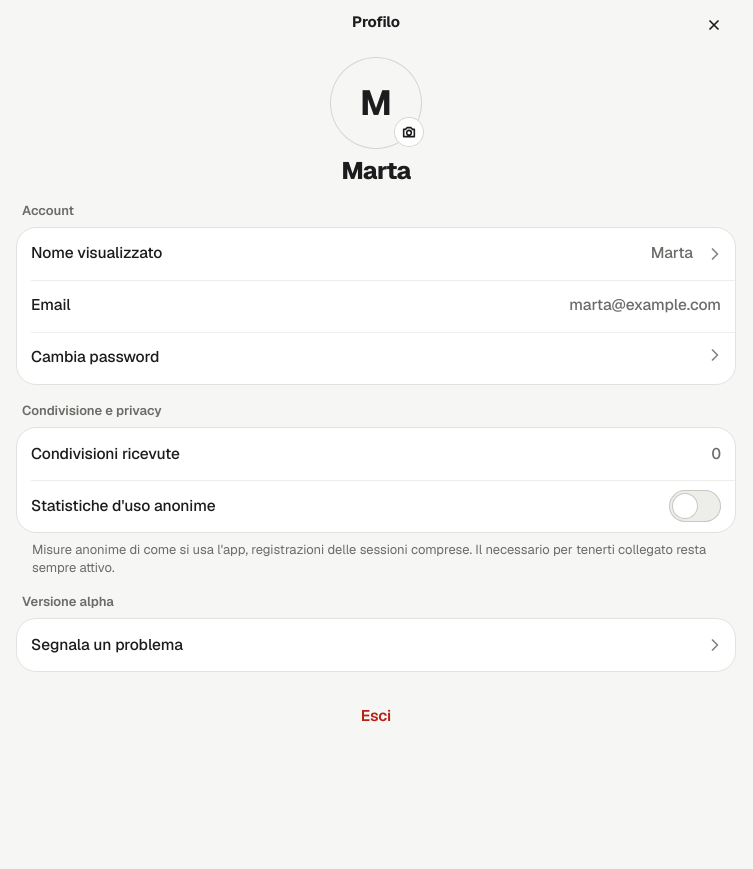
it: Profilo — nome › «Annulla» richiude senza salvare e torna alla riga
Click the button "Nome visualizzato Marta": x=97, y=253 [17,228,735,280]
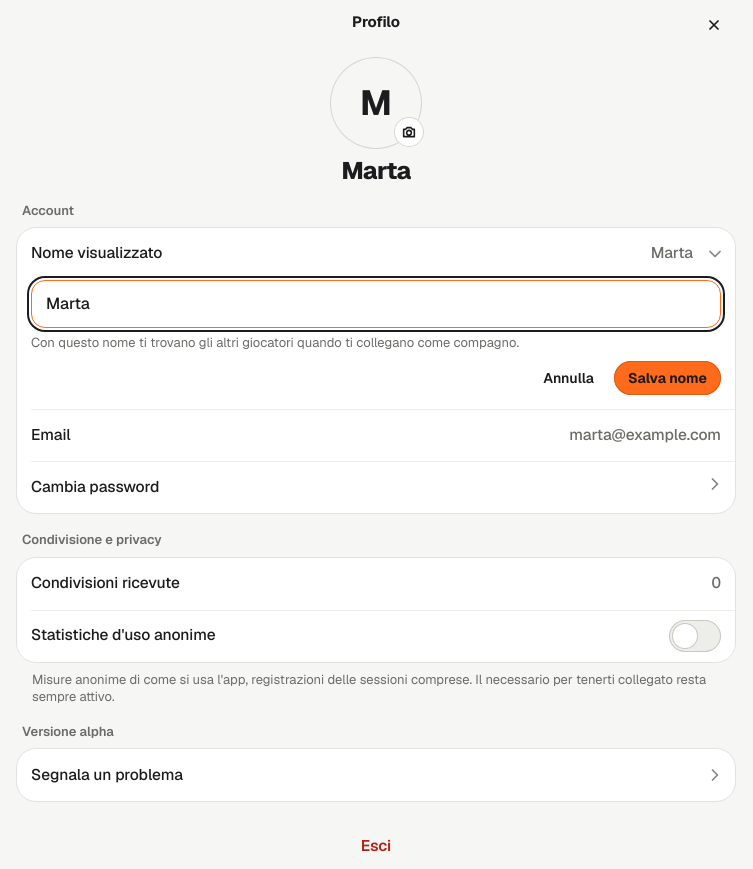
In the field named "Nome visualizzato": x=376, y=304 [31,280,721,328], type "tina"
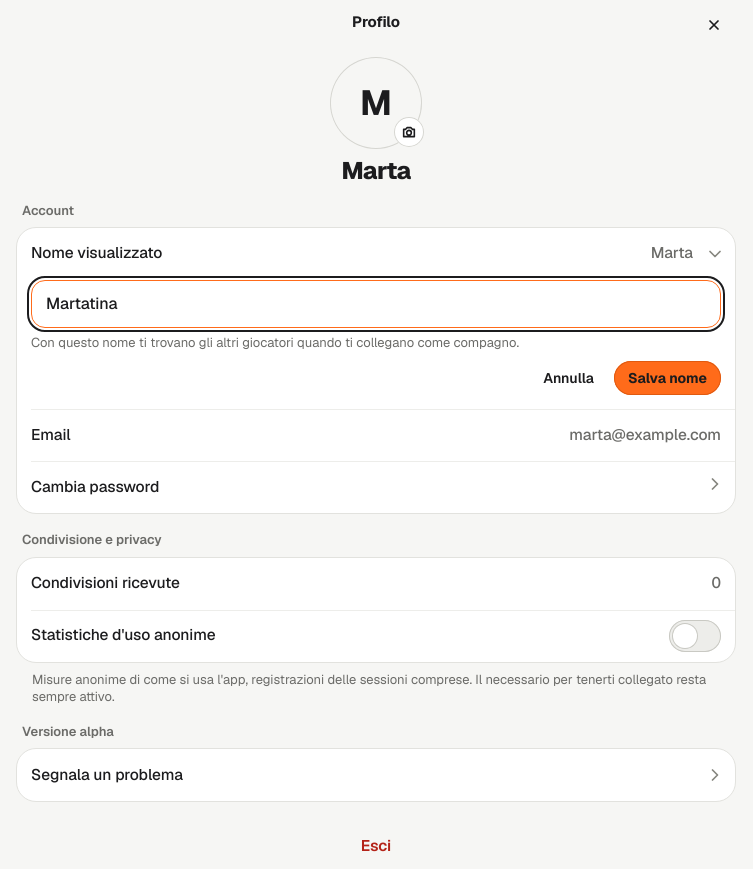
Click the button "Annulla": x=569, y=378 [531,361,606,395]
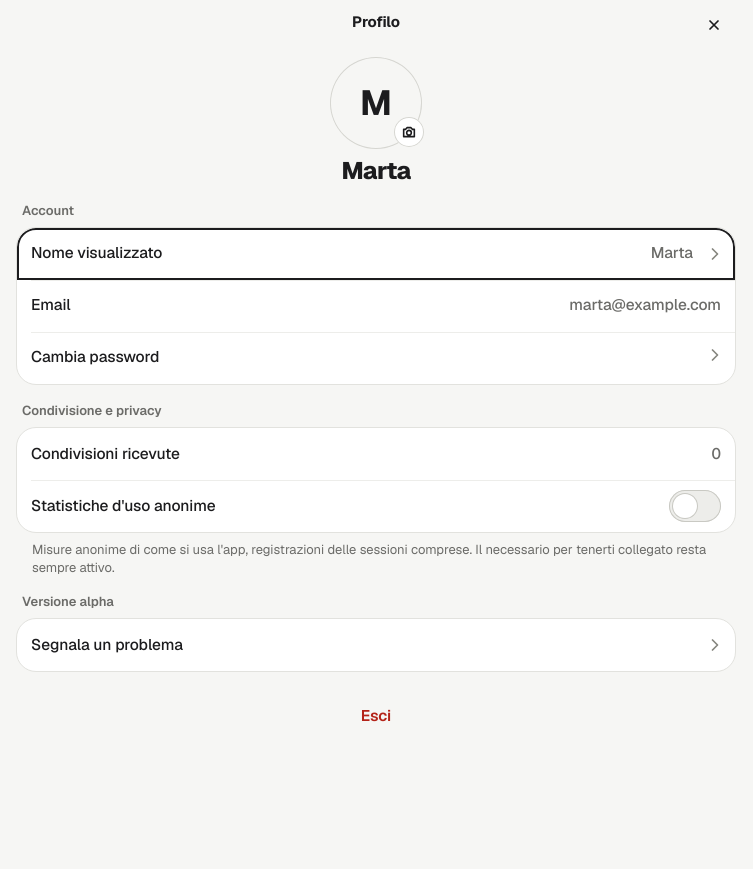
Result: the button "Nome visualizzato Marta" is collapsed at [17,228,735,280]
